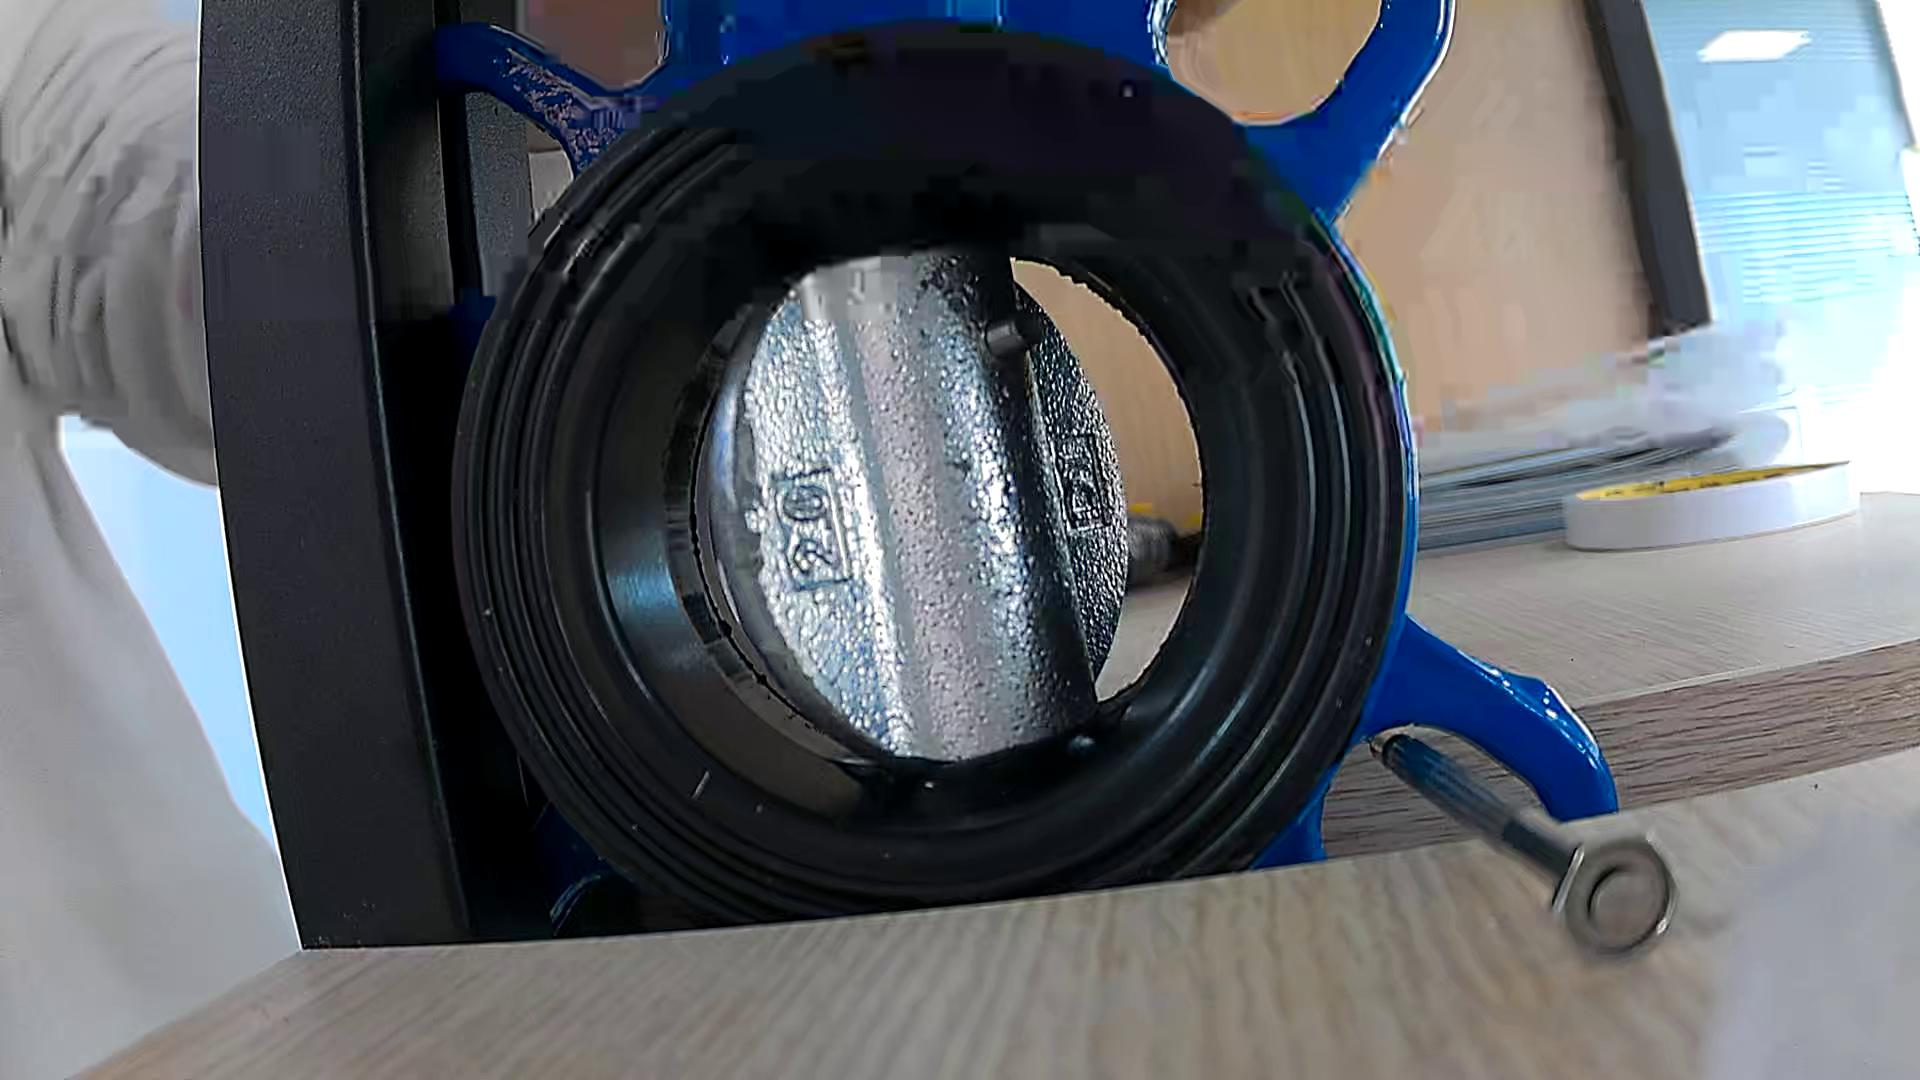valve: (707, 248, 1129, 761)
